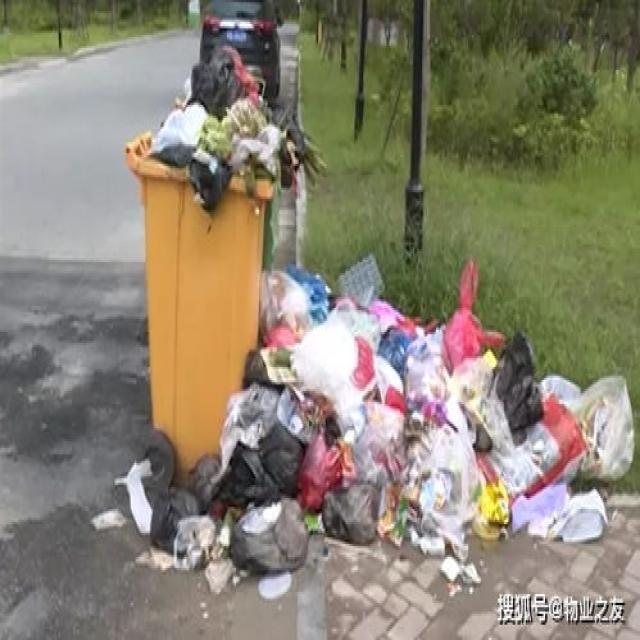garbage: (90, 251, 632, 599)
overflow: (123, 41, 323, 485)
